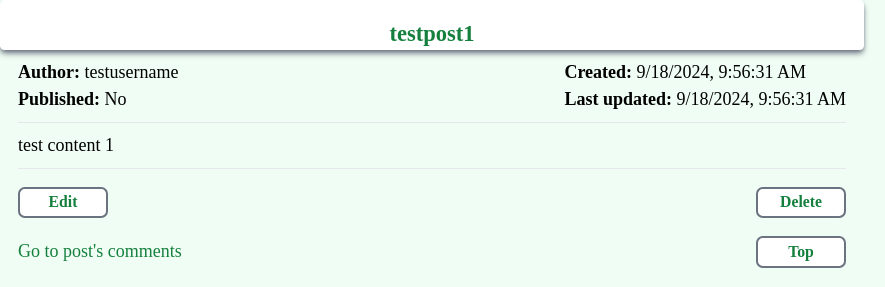
Scenario: post page tests › post form display
The width and height of the screenshot is (885, 287).
Click the button "Edit": (63,202) [18,186,108,218]
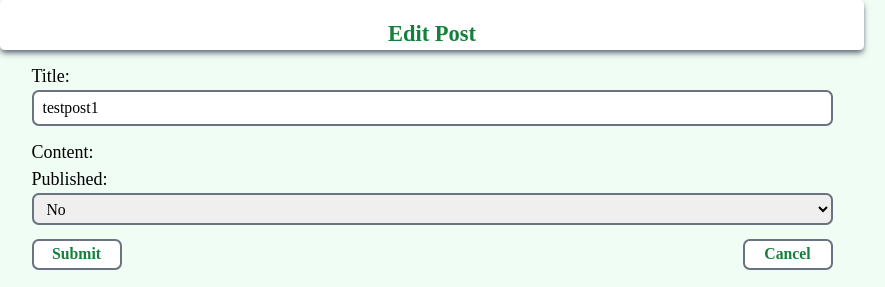
Expected: the heading "Edit Post" is shown, [388,18,476,50]
